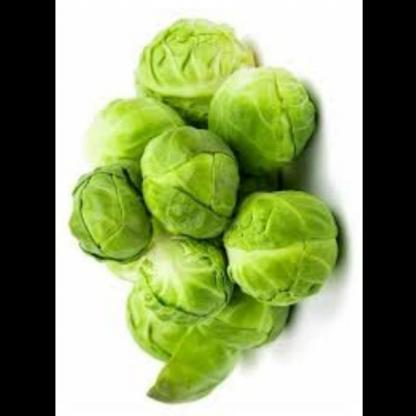brus capusta: (68, 27, 332, 370)
